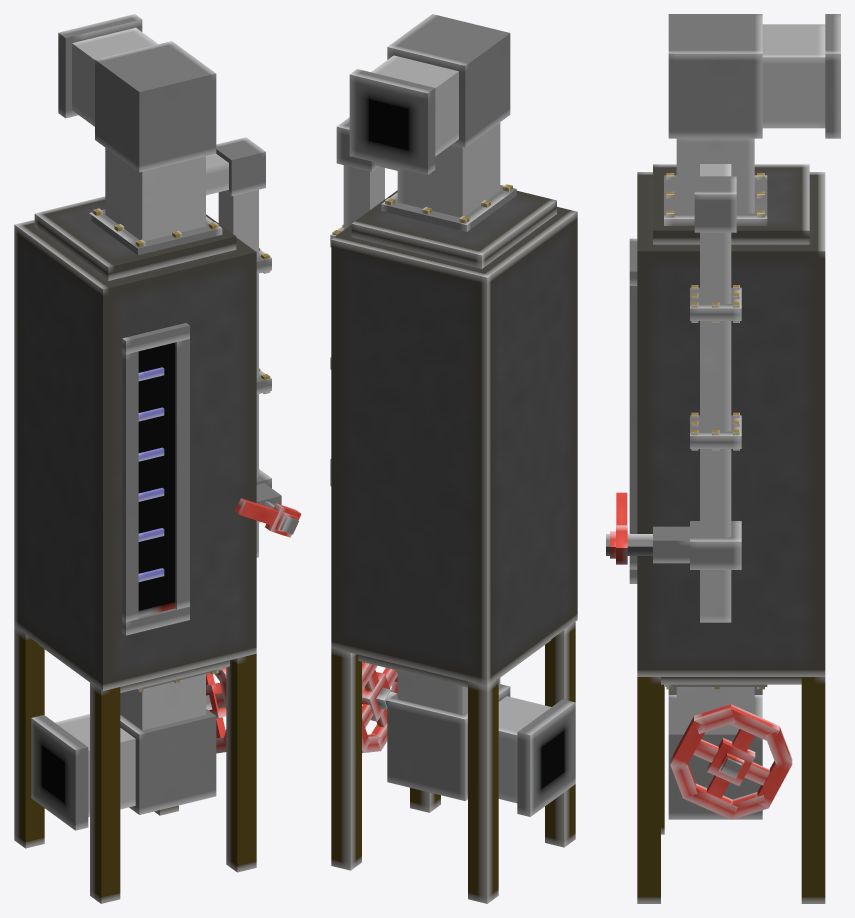
Rendered from fluidtank_small.obj.
3 views of the same model, side by side, from view 1: azimuth 30°, elevation 25°; view 2: azimuth 150°, elevation 25°; view 3: azimuth 270°, elevation 25° (orthographic). The views are drawn at different scales.
Visible parts, largest first — view 1: Body, PipeInputTopConduit2, GaugeBack, PipeOutputNotch, PipeInputTopConduit1, Leg1, Leg2, BodyTop, Leg4, PipeOutputPipe, GaugeFrameLeft, GaugeFrameRight (+12 smaller); view 2: Body, PipeInputTopConduit2, PipeInputTopConduit4, BodyTop, PipeOutputNotch, Leg4, Leg3, PipeInputTopConduit1, PipeOutputPipe, Leg1, PipeInputTopConduit3, PipeOutput (+7 smaller); view 3: Body, PipeInputTopConduit2, PipeSide, PipeInputTopConduit3, BodyTop, Leg3, Leg2, PipeInputTopConduit1, PipeOutputNotch, PipeSideCube4, GaugeFrameRight, PipeOutputUp (+20 smaller).
Part boxes in pixels (x1,y1,x2,y2): Body: (14, 220, 256, 690); PipeInputTopConduit2: (95, 41, 216, 172); GaugeBack: (138, 342, 175, 616); PipeOutputNotch: (120, 709, 216, 814); PipeInputTopConduit1: (105, 148, 205, 241); Leg1: (90, 682, 120, 903); Leg2: (226, 653, 256, 872); BodyTop: (34, 196, 236, 280); Leg4: (14, 626, 44, 848); PipeOutputPipe: (31, 715, 88, 830); GaugeFrameLeft: (122, 351, 138, 621); GaugeFrameRight: (175, 339, 189, 609); Body: (331, 207, 577, 685); PipeInputTopConduit2: (387, 14, 510, 147); PipeInputTopConduit4: (349, 69, 435, 174); BodyTop: (351, 190, 556, 268); PipeOutputNotch: (387, 684, 510, 800); Leg4: (468, 678, 498, 903); Leg3: (331, 648, 361, 870); PipeInputTopConduit1: (397, 122, 500, 217); PipeOutputPipe: (517, 699, 575, 816); Leg1: (545, 622, 575, 847); PipeInputTopConduit3: (371, 55, 458, 156); PipeOutput: (498, 696, 551, 803); Body: (637, 172, 825, 676); PipeInputTopConduit2: (668, 14, 762, 138); PipeSide: (700, 232, 731, 622); PipeInputTopConduit3: (762, 24, 825, 128); BodyTop: (653, 164, 809, 244); Leg3: (801, 677, 825, 903); Leg2: (637, 677, 660, 903); PipeInputTopConduit1: (676, 138, 754, 213); PipeOutputNotch: (668, 695, 762, 819); PipeSideCube4: (694, 176, 736, 232); GaugeFrameRight: (629, 286, 637, 569); PipeOutputUp: (676, 687, 754, 731).
Size of the model in its own units: 1.01 by 3.69 by 0.9375.
